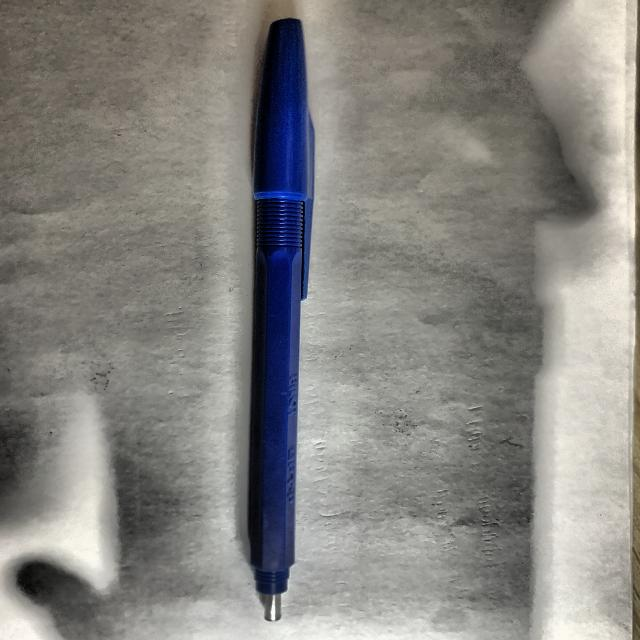Pulpen: (231, 9, 328, 631)
